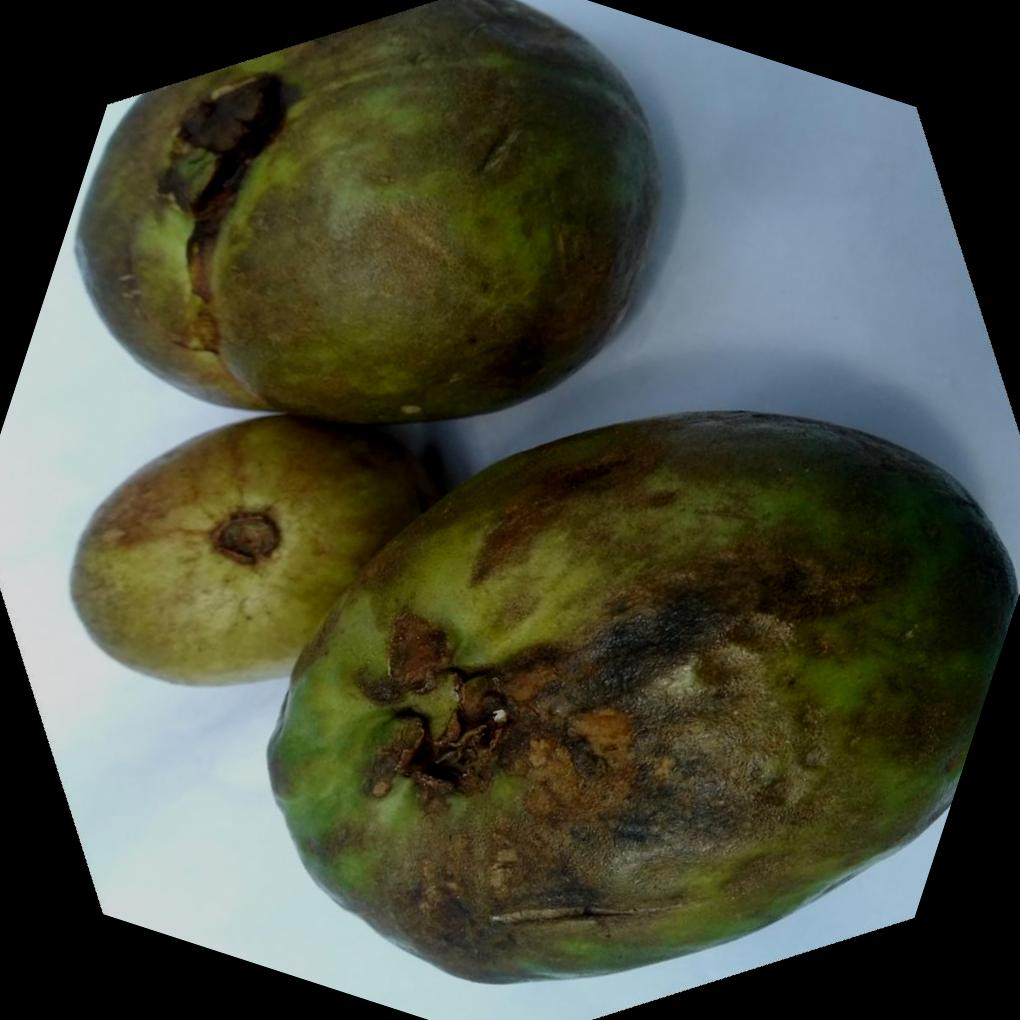FreshOrange: (67, 0, 1020, 982)
